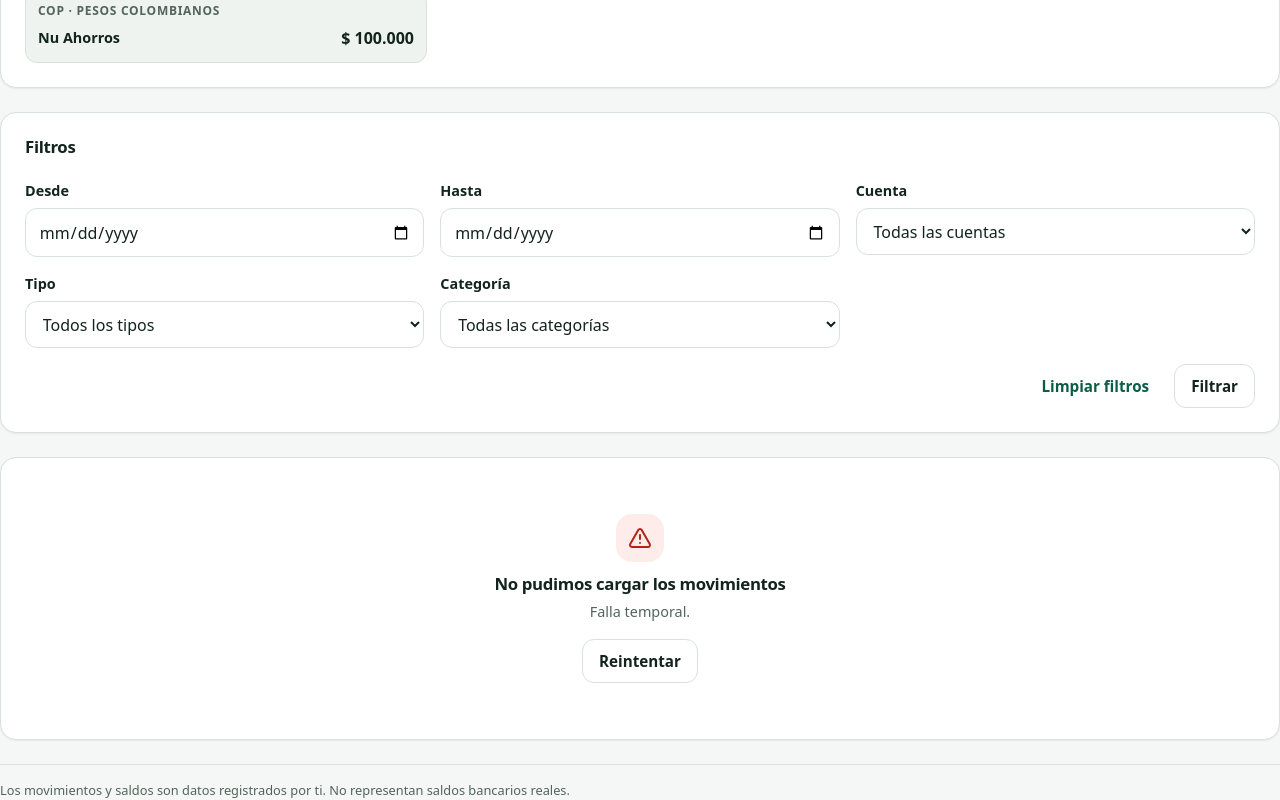
página de movimientos › muestra error y permite reintentar
(page scrolled)
Expected: the heading "No pudimos cargar los movimientos" is shown, [494,574,786,593]
What coordinates should you click on to do the following:
click the button "Reintentar"
I would click on:
 (640, 661)
Its box is [582,639,698,683].
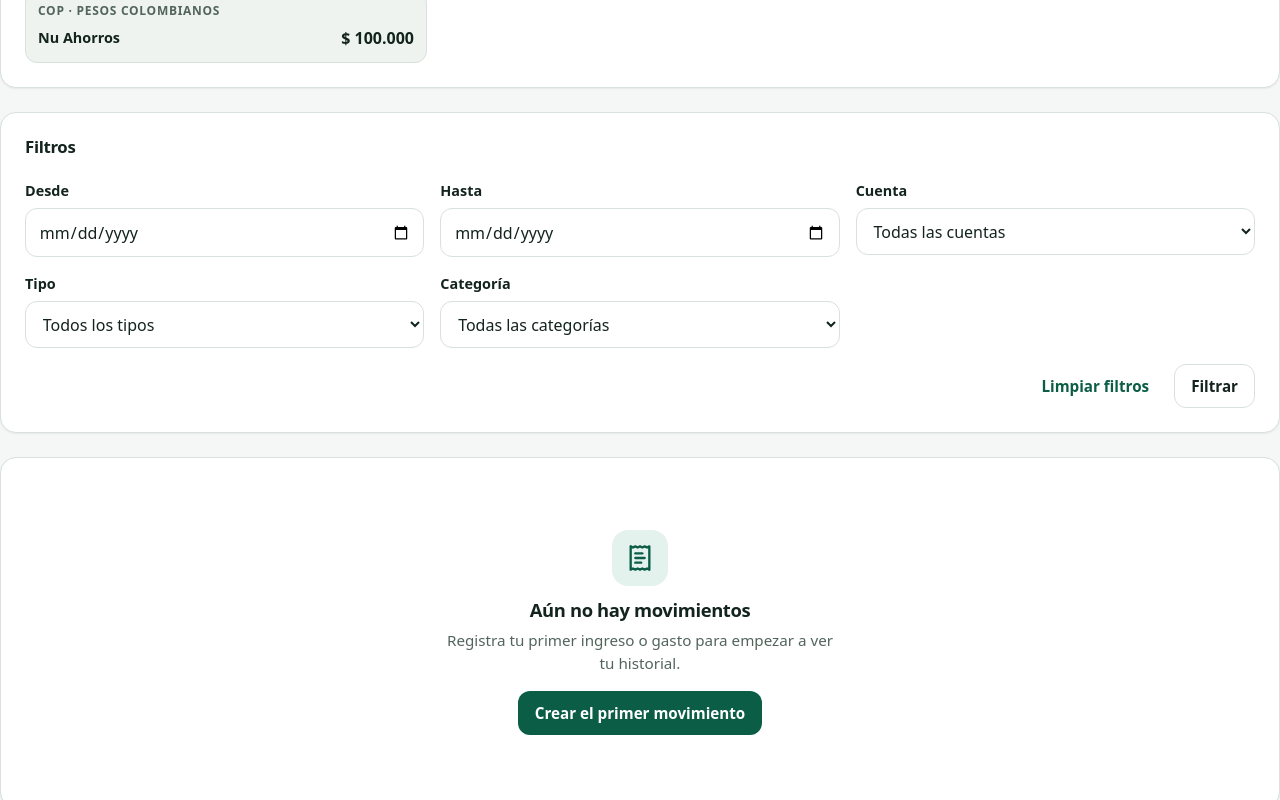
Result: the heading "Aún no hay movimientos" is shown at [530,599,750,620]
